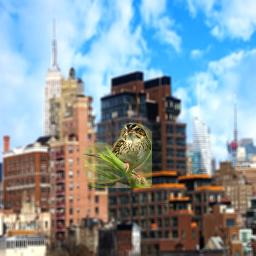Sparrow: (82, 122, 152, 188)
